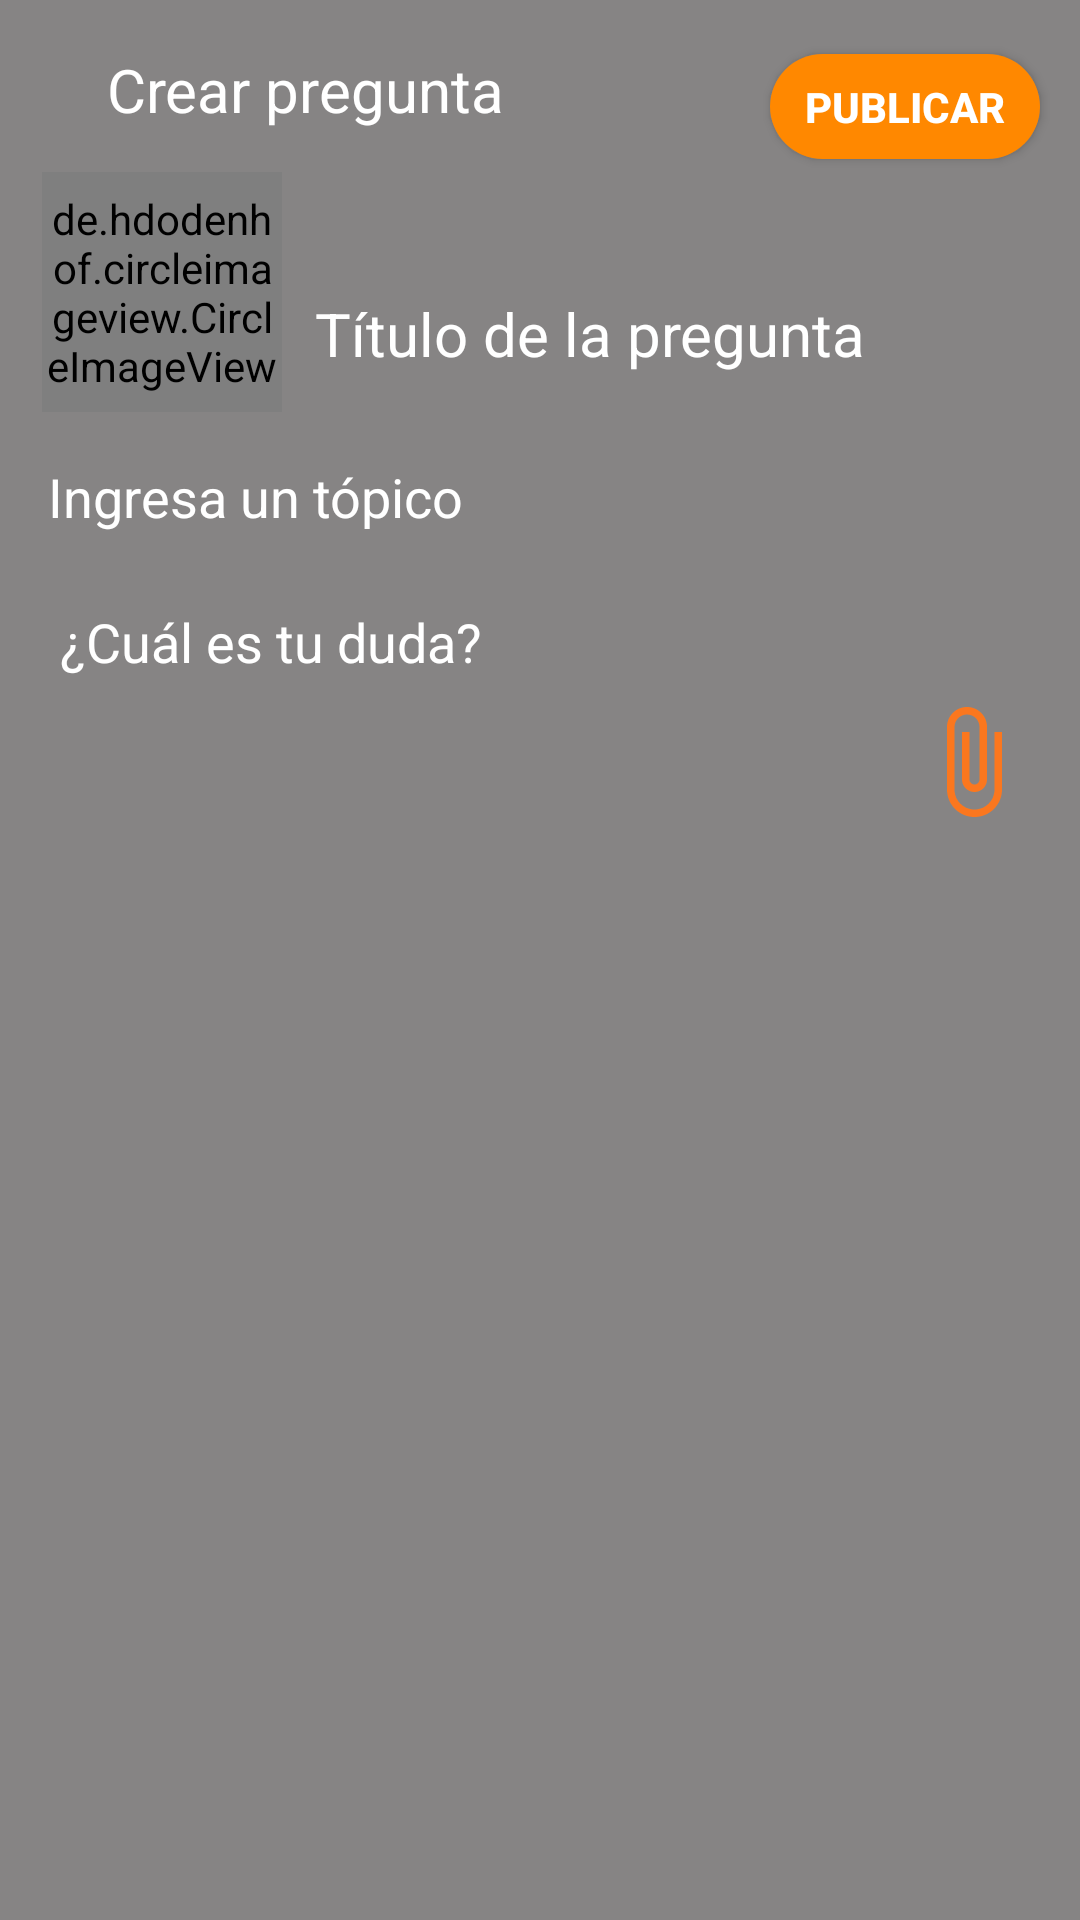

Screen size 1080w x 1920h. Icon name, then its box in pixels as (x1, y1, x2, y2):
attach file: (947, 707, 1002, 817)
